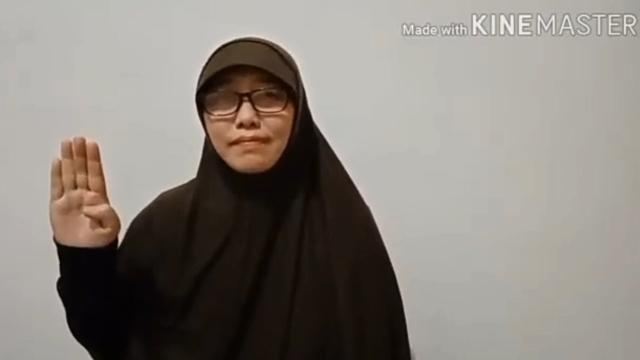B: (49, 134, 122, 253)
